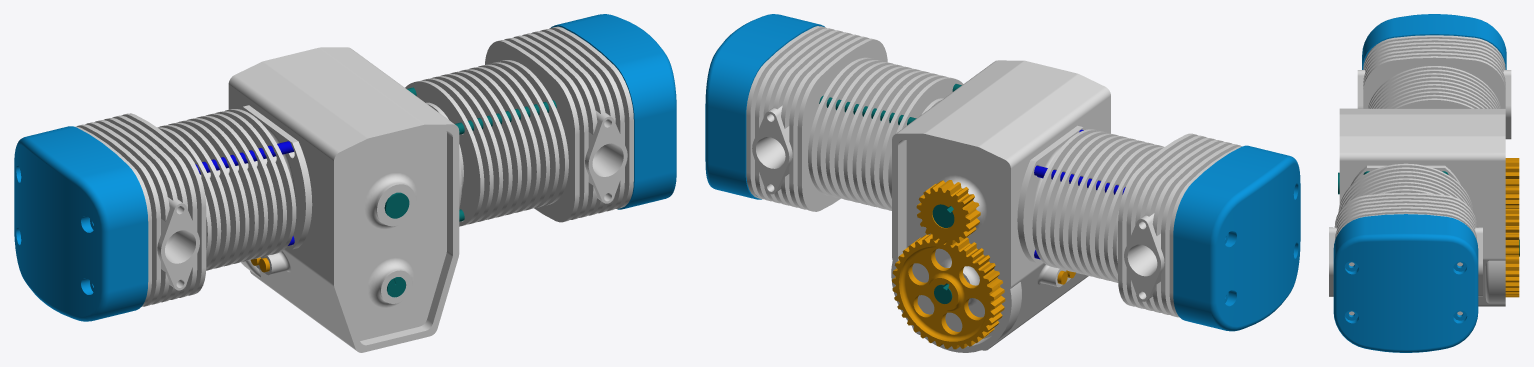
Rendered from 2CylinderEngine.FBX.
The picture shows the model from 3 angles, left to right: view 1: azimuth 30°, elevation 25°; view 2: azimuth 150°, elevation 25°; view 3: azimuth 270°, elevation 25°; orthographic projection. The views are drawn at different scales.
Visible parts, largest first — view 1: Case_r_123-200_0_Parts, Valve_Cover_copy__0_Main, Cylinder_1_123-100_0_Parts, Cylinder_2_123-101_0_Parts, Head_1_123-150_0_Parts, Head_2_123-151_0_Parts, Valve_Cover_123-701_0_Parts, Head_Stud_123-006_0_Parts, cylinder_bolt_pattern__0_Parts, crank_123-782_0_Parts; view 2: Case_r_123-200_0_Parts, Valve_Cover_copy__0_Main, Cylinder_2_123-101_0_Parts, Head_1_123-150_0_Parts, Cylinder_1_123-100_0_Parts, Head_2_123-151_0_Parts, Valve_Cover_123-701_0_Parts, cam_gear_123-456_0_Parts, crank_gear_123-783_0_Parts; view 3: Valve_Cover_123-701_0_Parts, Case_r_123-200_0_Parts, Head_2_123-151_0_Parts, Cylinder_2_123-101_0_Parts, Head_1_123-150_0_Parts, Cylinder_1_123-100_0_Parts, Valve_Cover_copy__0_Main, cam_gear_123-456_0_Parts, crank_gear_123-783_0_Parts.
Boxes of the visible parts, box(x1,y1,x2,y2) form: Case_r_123-200_0_Parts: box(228, 47, 459, 352); Valve_Cover_copy__0_Main: box(14, 126, 148, 321); Cylinder_1_123-100_0_Parts: box(405, 60, 568, 226); Cylinder_2_123-101_0_Parts: box(157, 105, 312, 270); Head_1_123-150_0_Parts: box(485, 26, 633, 222); Head_2_123-151_0_Parts: box(75, 113, 206, 306); Valve_Cover_123-701_0_Parts: box(551, 14, 676, 209); Head_Stud_123-006_0_Parts: box(195, 141, 293, 174); cylinder_bolt_pattern__0_Parts: box(407, 87, 556, 221); crank_123-782_0_Parts: box(384, 192, 409, 218); Case_r_123-200_0_Parts: box(891, 60, 1110, 352); Valve_Cover_copy__0_Main: box(1173, 145, 1300, 331); Cylinder_2_123-101_0_Parts: box(1017, 125, 1164, 282); Head_1_123-150_0_Parts: box(746, 26, 887, 211); Cylinder_1_123-100_0_Parts: box(808, 57, 963, 210); Head_2_123-151_0_Parts: box(1118, 133, 1242, 317); Valve_Cover_123-701_0_Parts: box(705, 14, 824, 199); cam_gear_123-456_0_Parts: box(892, 234, 1005, 349); crank_gear_123-783_0_Parts: box(916, 180, 980, 244); Valve_Cover_123-701_0_Parts: box(1333, 214, 1478, 352); Case_r_123-200_0_Parts: box(1339, 108, 1505, 306); Head_2_123-151_0_Parts: box(1357, 35, 1511, 139); Cylinder_2_123-101_0_Parts: box(1368, 66, 1500, 108); Head_1_123-150_0_Parts: box(1329, 192, 1482, 315); Cylinder_1_123-100_0_Parts: box(1338, 163, 1473, 212); Valve_Cover_copy__0_Main: box(1362, 14, 1506, 69); cam_gear_123-456_0_Parts: box(1505, 209, 1519, 297); crank_gear_123-783_0_Parts: box(1505, 158, 1519, 208).
Bounding box in the file's own units: 74338 × 27301 × 26800.
